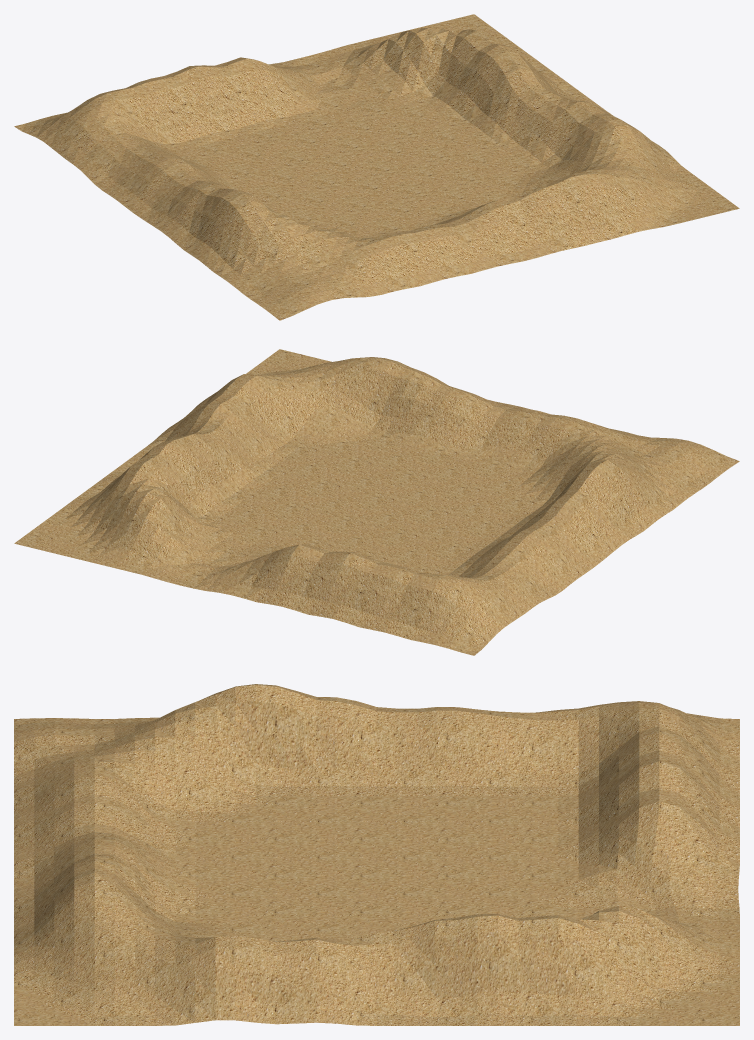
File: sand_ground.obj
3 renders of one model, top to bottom at view 1: azimuth 30°, elevation 25°; view 2: azimuth 150°, elevation 25°; view 3: azimuth 270°, elevation 25°, orthographic. The views are drawn at different scales.
Visible parts, largest first — view 1: Plane; view 2: Plane; view 3: Plane.
Boxes of the visible parts, x1=… form: Plane: x1=14, y1=14, x2=739, y2=320; Plane: x1=14, y1=349, x2=739, y2=655; Plane: x1=14, y1=684, x2=739, y2=1025.
Size of the model in its own units: 156 by 16.82 by 156.
Materials: 1 (1 with a texture image).
